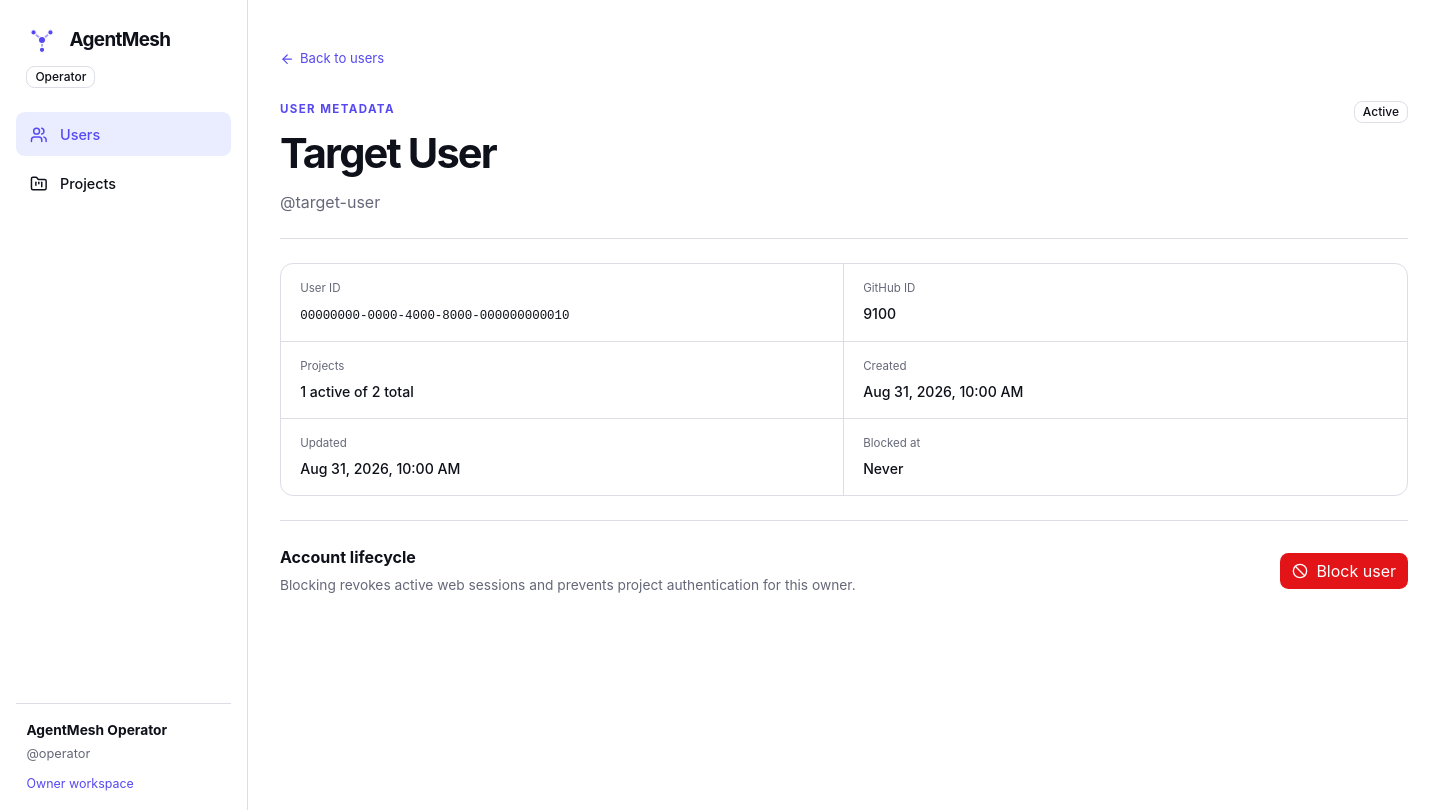
Test: AgentMesh operator UI › blocks and unblocks a user only after accessible confirmation
The width and height of the screenshot is (1440, 810).
Click the button "Block user" at (1344, 571), box 1280,553 -> 1408,589
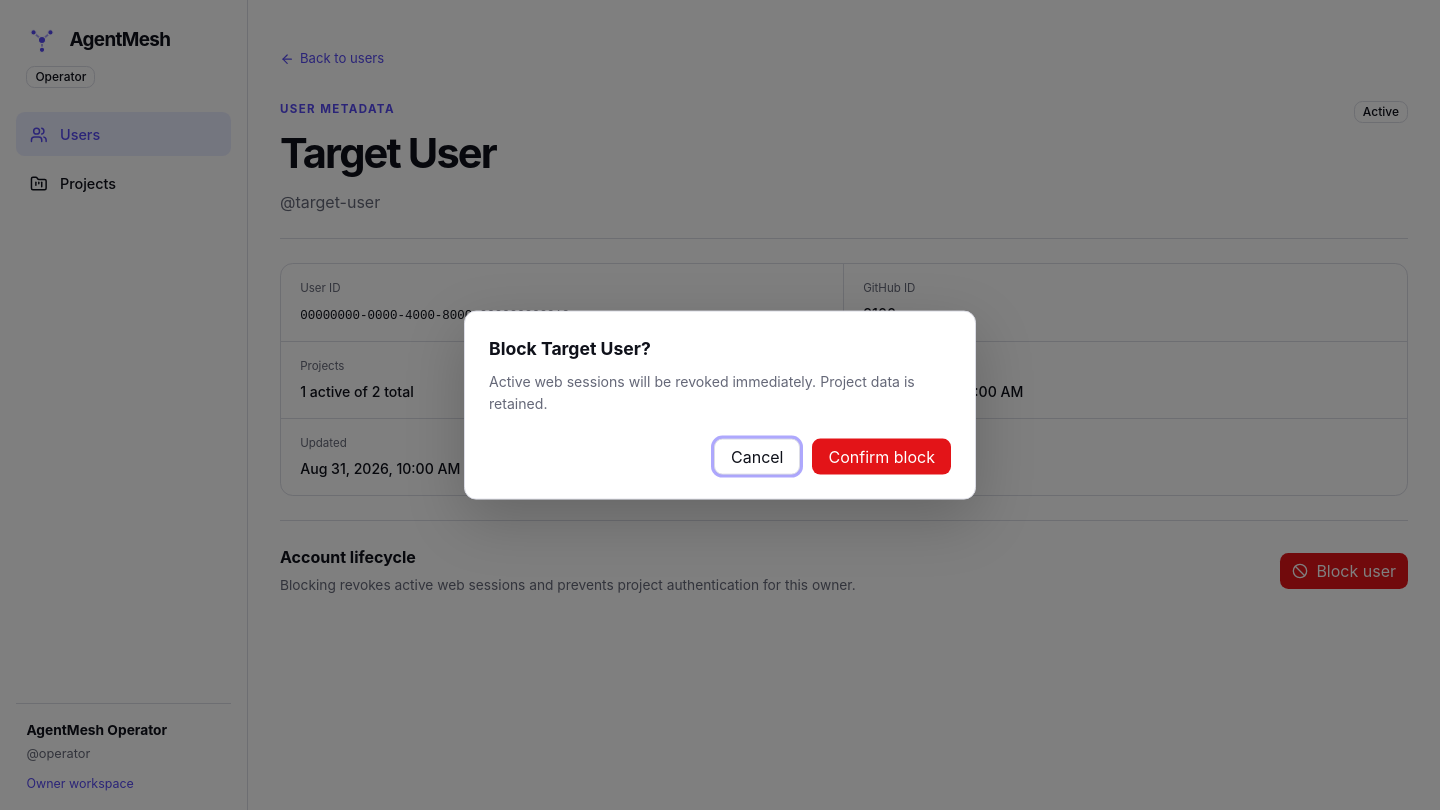
expect the button "Cancel" is shown: met, box 714,438 -> 800,474
Click the button "Confirm block" at (882, 456), box 812,438 -> 951,474
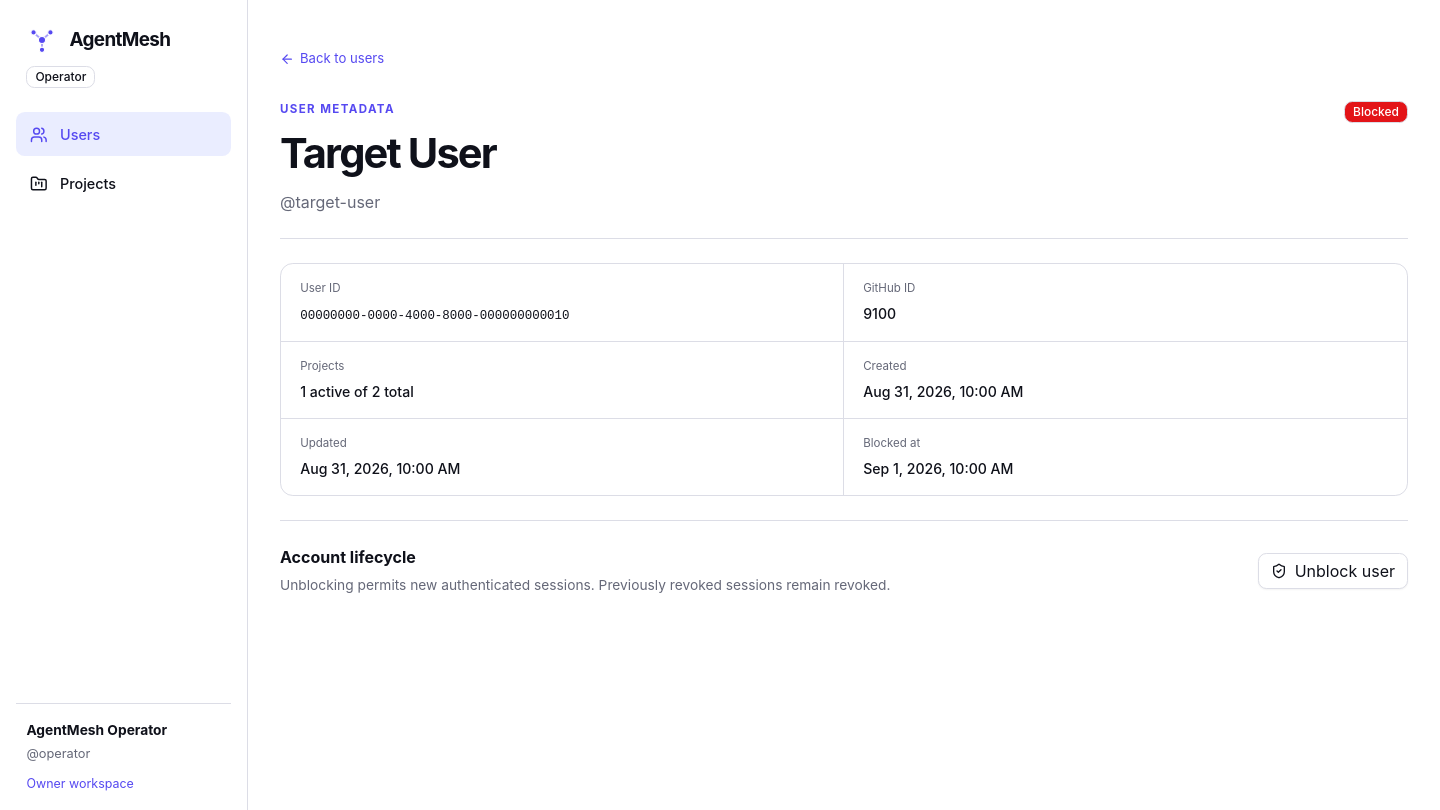
expect the text "Blocked" is shown: met, box 1344,101 -> 1408,123
Click the button "Unblock user" at (1333, 571), box 1258,553 -> 1408,589
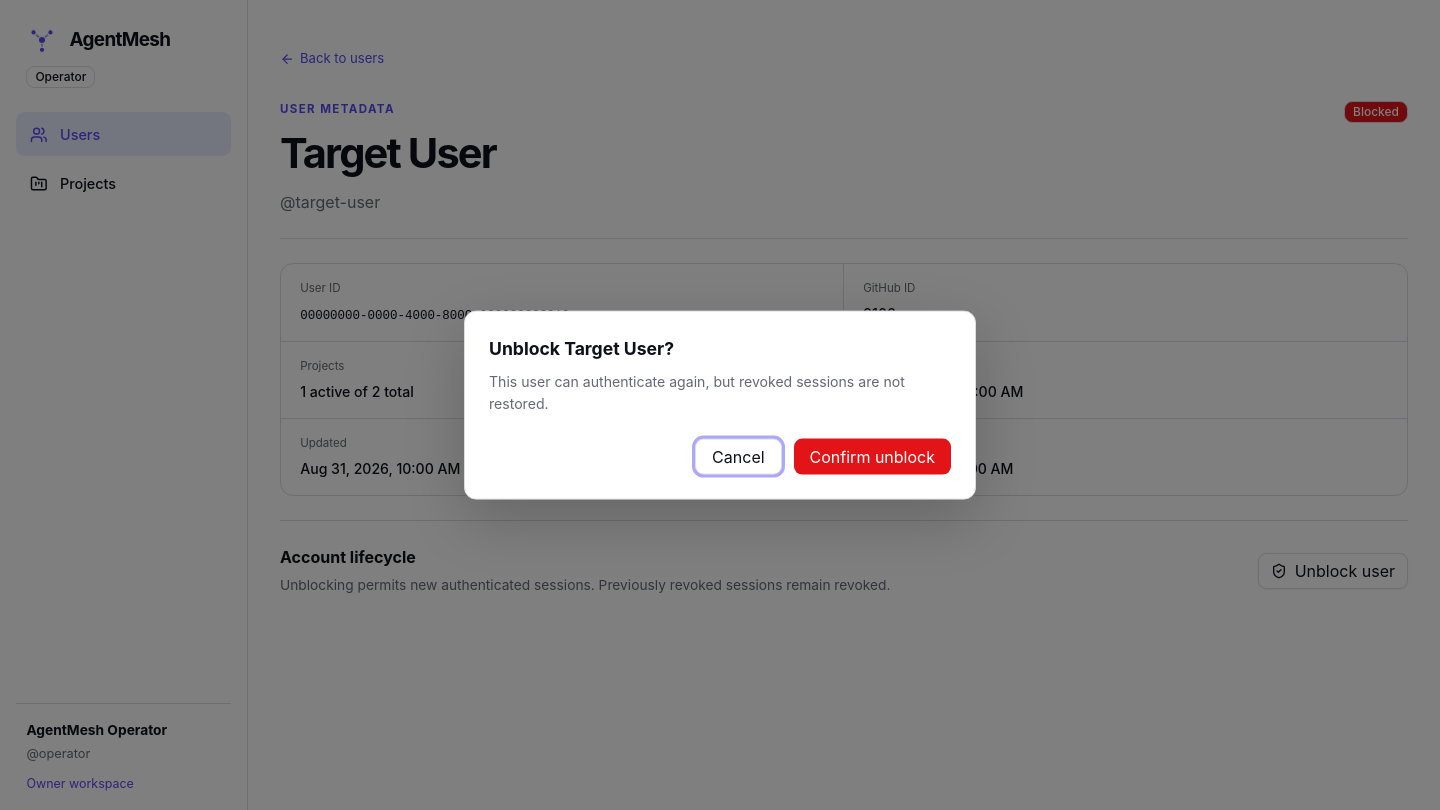
Click the button "Confirm unblock" at (872, 456), box 794,438 -> 951,474
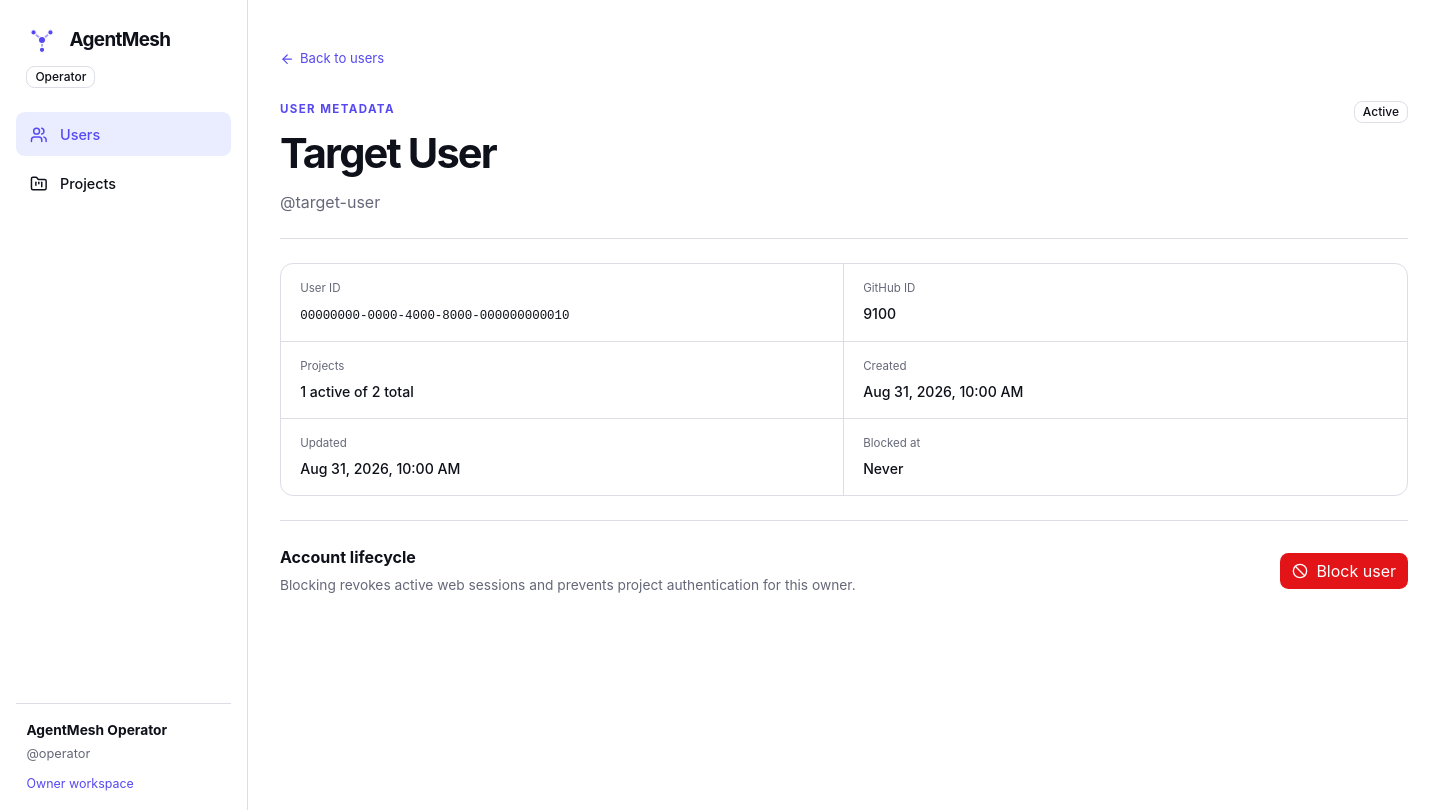
expect the text "Active" is shown: met, box 1354,101 -> 1408,123
